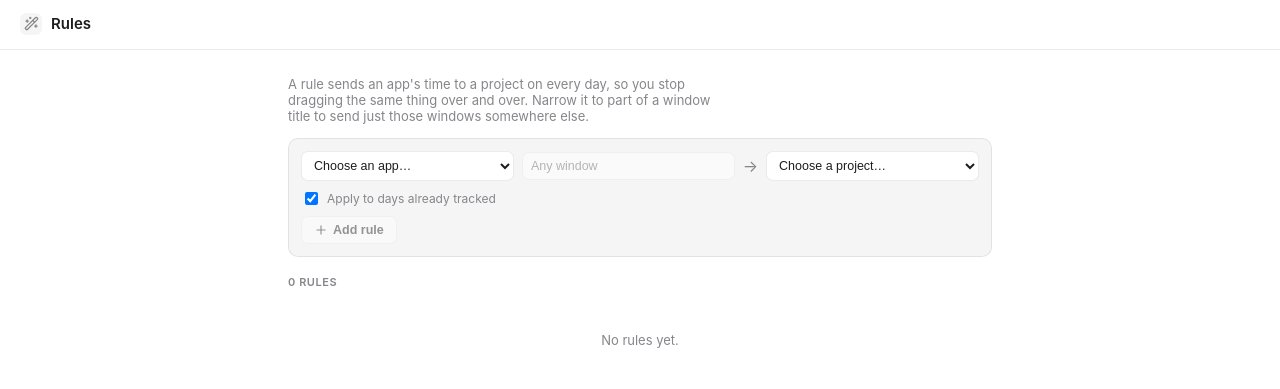
Test: RulesPane › says so when a pattern catches nothing tracked
The image size is (1280, 389).
Select "Warp · 2h" in the dropdown named "App" at [407, 166], box [301,151,514,181]
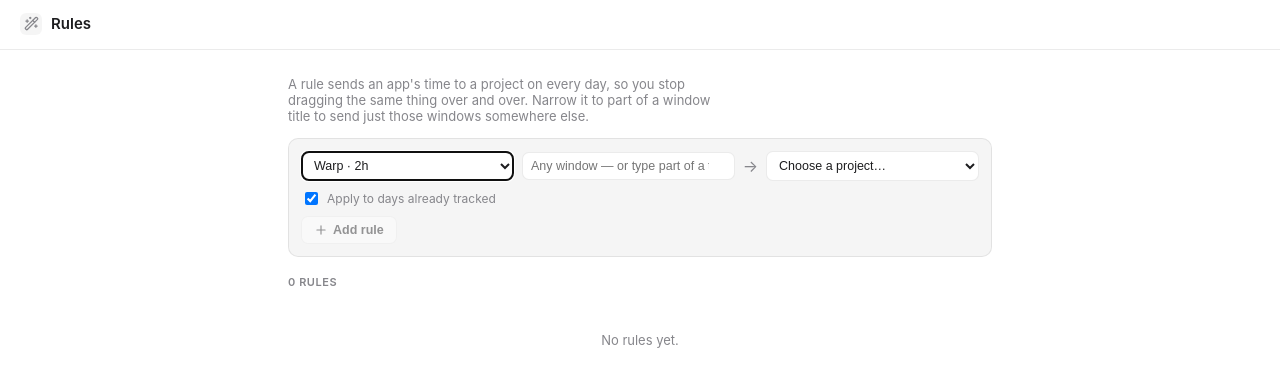
Type "zzz" into the field named "Window title contains".
click(628, 166); type("zzz")  # box [522,152,735,180]
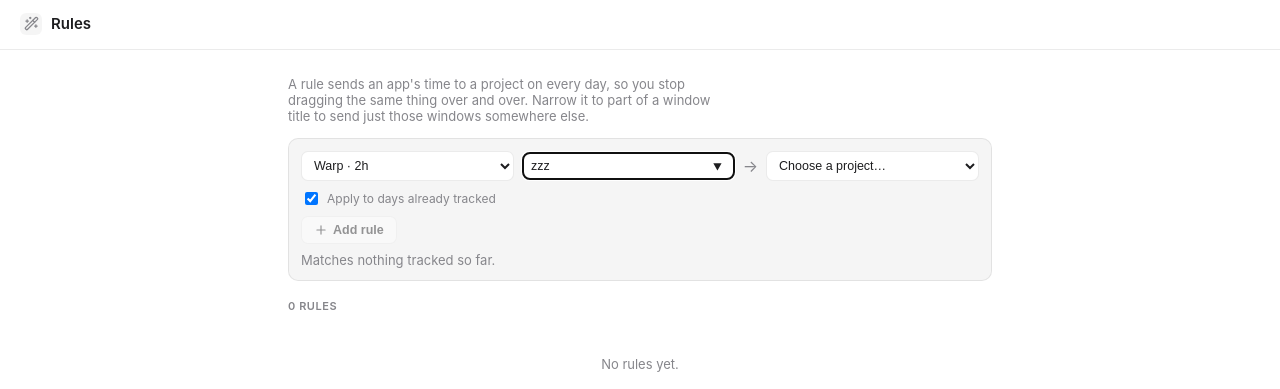
Expected: the text "Matches nothing tracked so far." is shown, [301,252,495,268]
